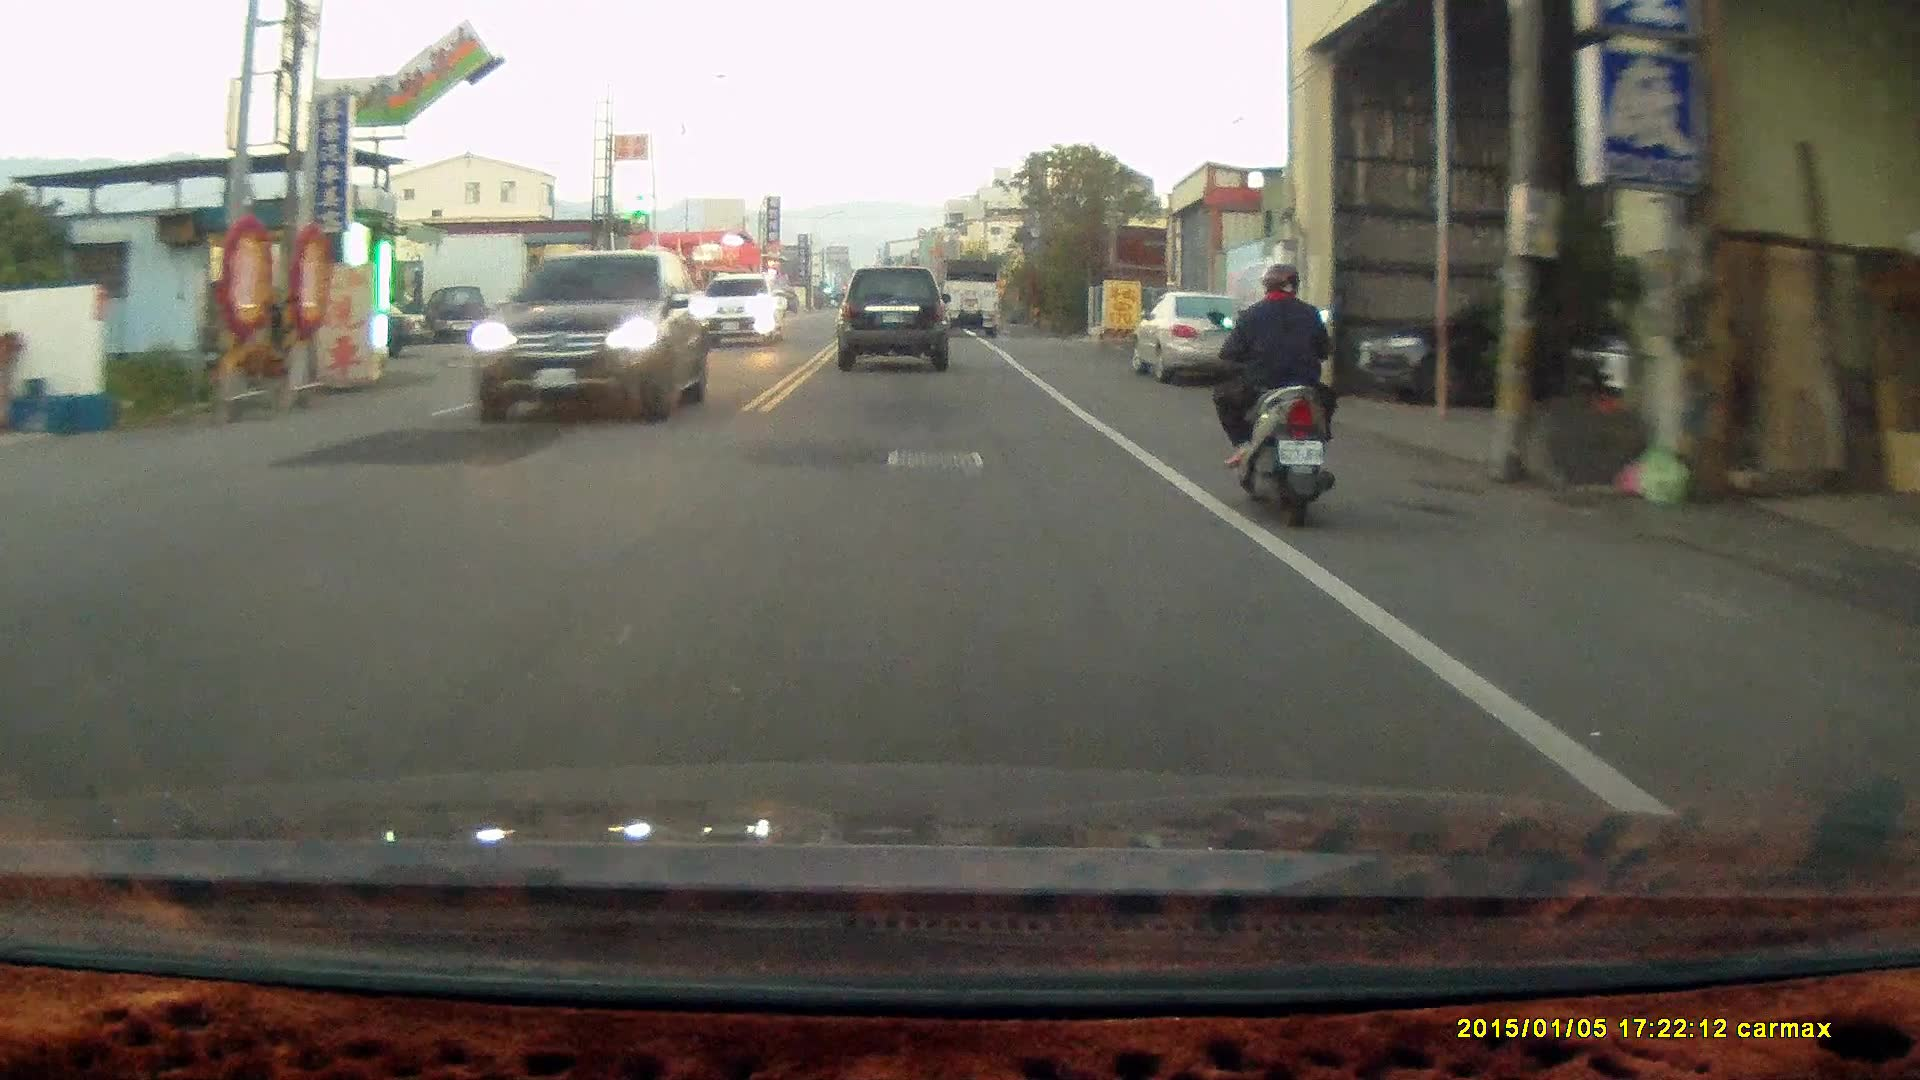rider: (1203, 261, 1338, 530)
vehicle: (465, 250, 712, 418), (1352, 296, 1594, 410), (1135, 290, 1269, 388), (839, 265, 954, 374), (694, 276, 789, 354), (932, 260, 1002, 339), (437, 286, 490, 347)
